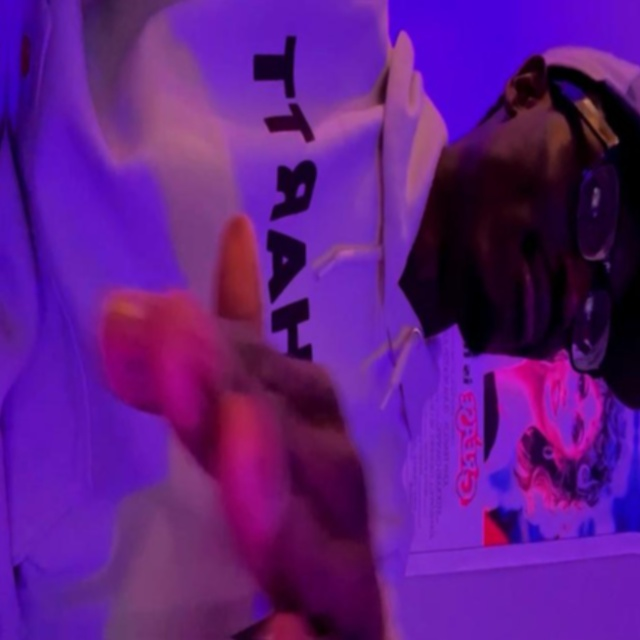Paper: (86, 216, 397, 640)
